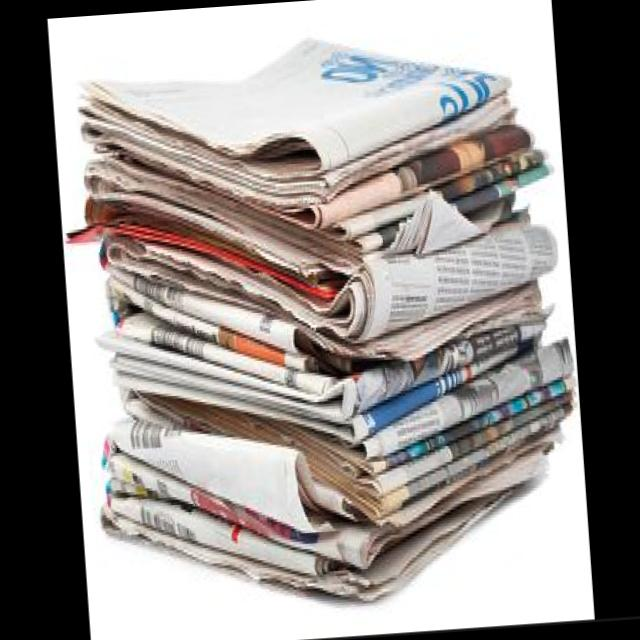Koran: (54, 16, 590, 620)
